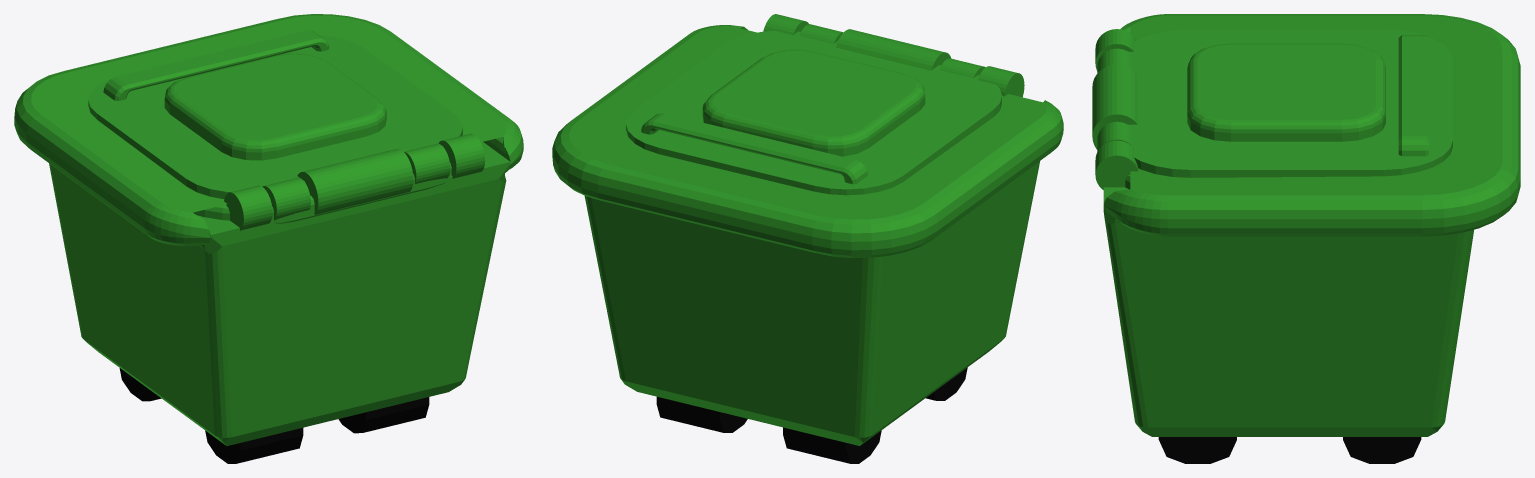
Rendered from TrashBin.fbx.
The picture shows the model from 3 angles, left to right: view 1: azimuth 30°, elevation 25°; view 2: azimuth 150°, elevation 25°; view 3: azimuth 270°, elevation 25°; orthographic projection. The views are drawn at different scales.
Parts seen in each view (by area): view 1: TrashBin, TrashBin.Tape; view 2: TrashBin, TrashBin.Tape; view 3: TrashBin, TrashBin.Tape.
Part boxes in pixels (x1,y1,x2,y2): TrashBin: (14,14,523,463); TrashBin.Tape: (88,30,485,230); TrashBin: (552,25,1063,463); TrashBin.Tape: (626,14,1024,195); TrashBin: (1103,14,1520,463); TrashBin.Tape: (1092,29,1452,189).
Size of the model in its own units: 248 by 230 by 197.
